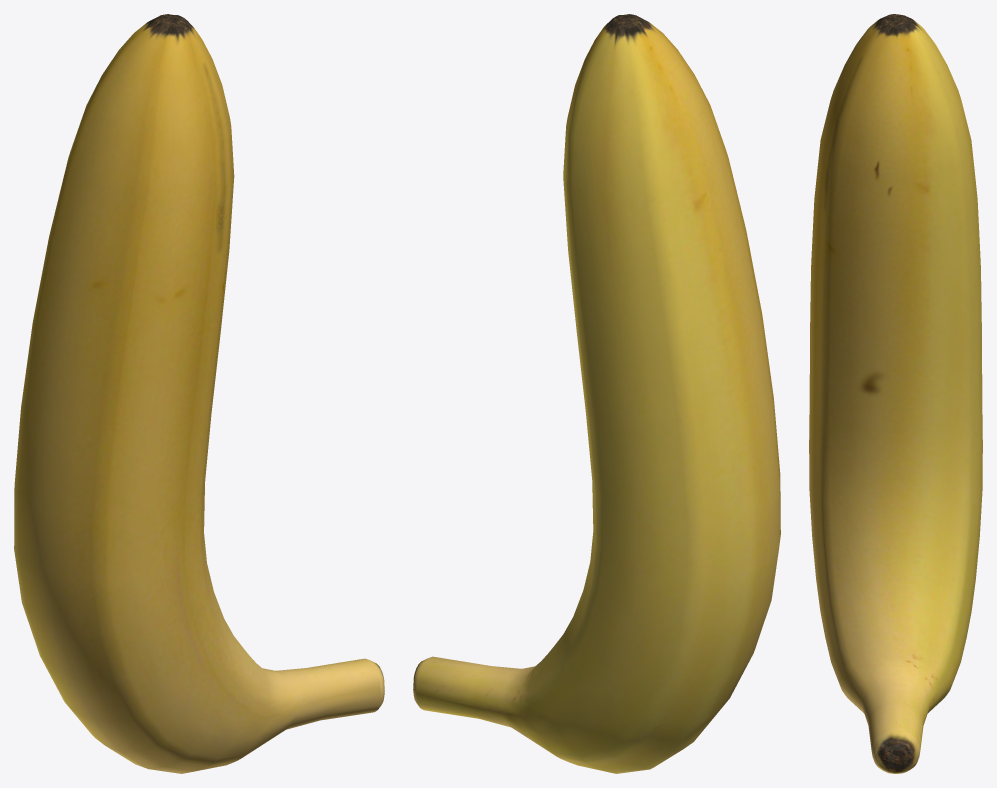
Rendered from banana.FBX.
The picture shows the model from 3 angles, left to right: view 1: azimuth 30°, elevation 25°; view 2: azimuth 150°, elevation 25°; view 3: azimuth 270°, elevation 25°; orthographic projection. The views are drawn at different scales.
Parts seen in each view (by area): view 1: banana_export; view 2: banana_export; view 3: banana_export.
Boxes of the visible parts, x1,y1,x2,y2 form: banana_export: [14, 14, 384, 773]; banana_export: [413, 14, 780, 773]; banana_export: [809, 14, 982, 773].
Bounding box in the file's own units: 287 × 594 × 137.
1 material, 1 textured.
